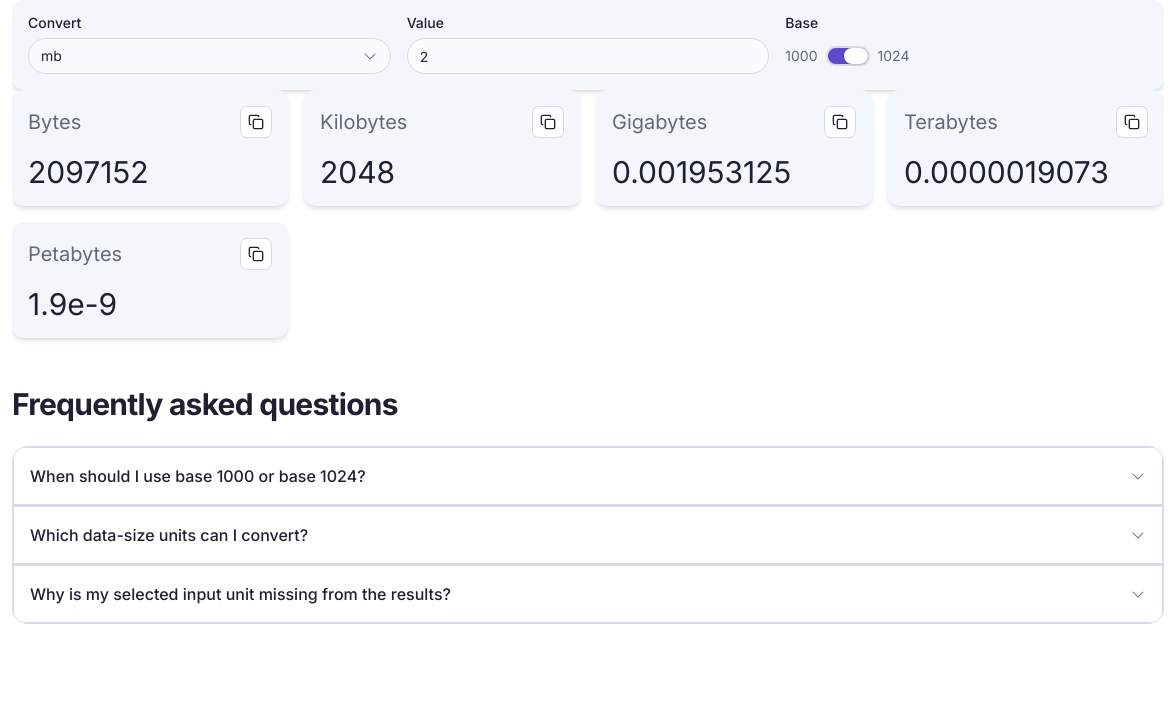
<DataSizeConverter /> › changes the source unit and recalculates the conversions
Click the dropdown with test id "data-size-converter-type-trigger" at (51, 56), box [28,38,391,74]
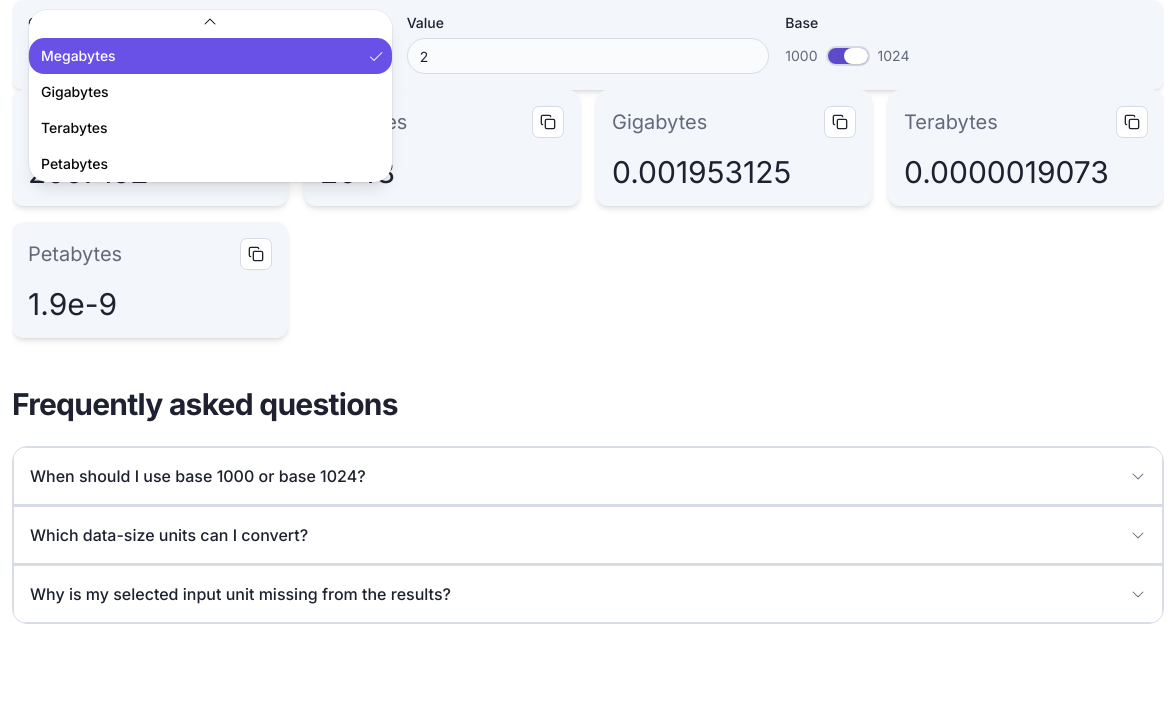
Click the option with test id "data-size-converter-type-option-gb" at (75, 92), box [41,83,109,100]
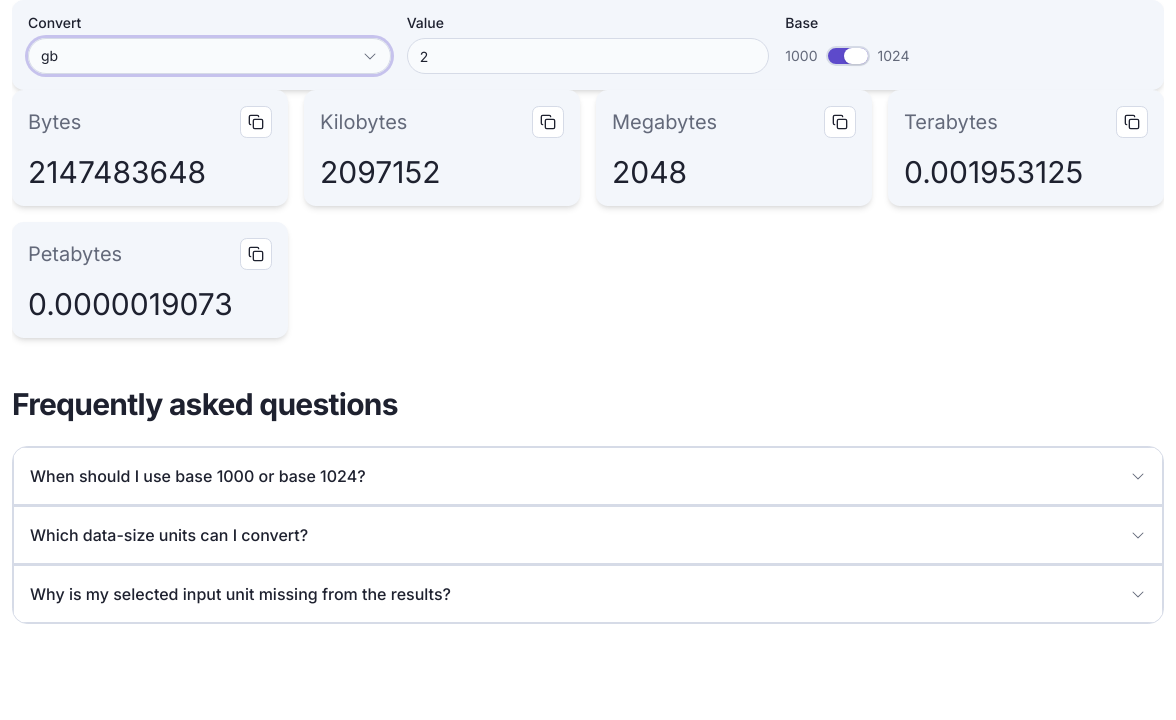
Expected: the text with test id "data-size-converter-output-mb" reads "2048", [612,154,687,190]
Expected: the text with test id "data-size-converter-output-gb" is gone
